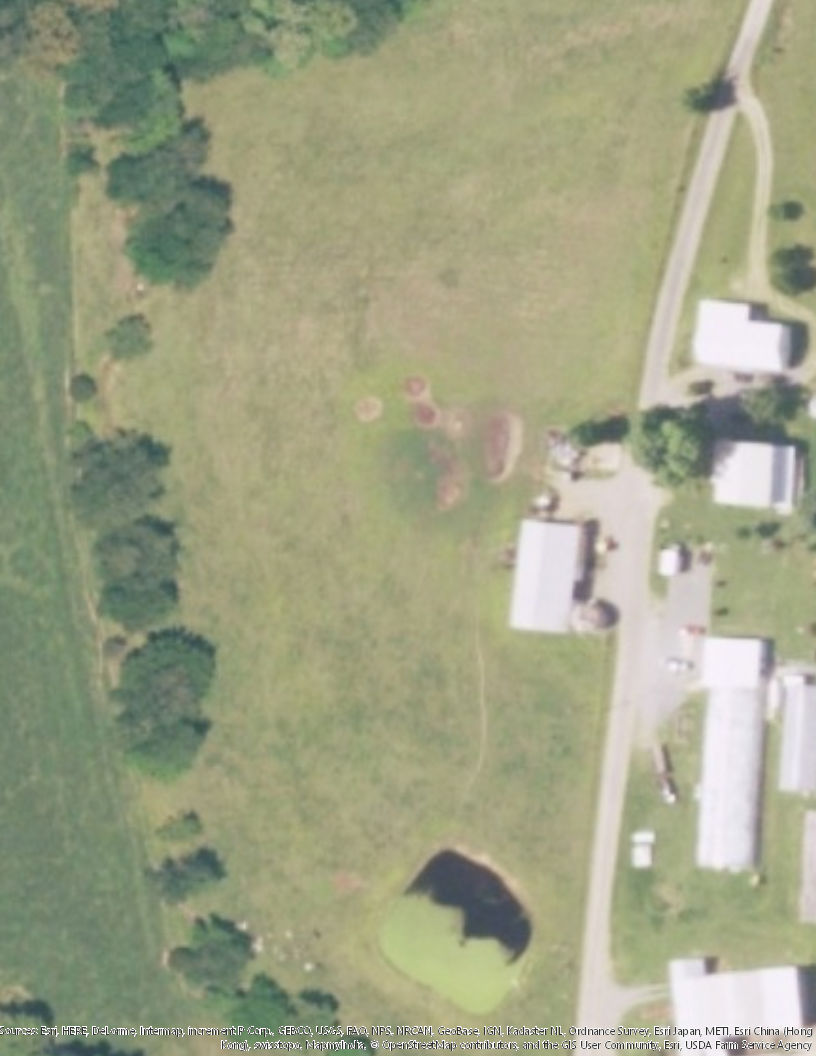cafo: (679, 625, 791, 876)
